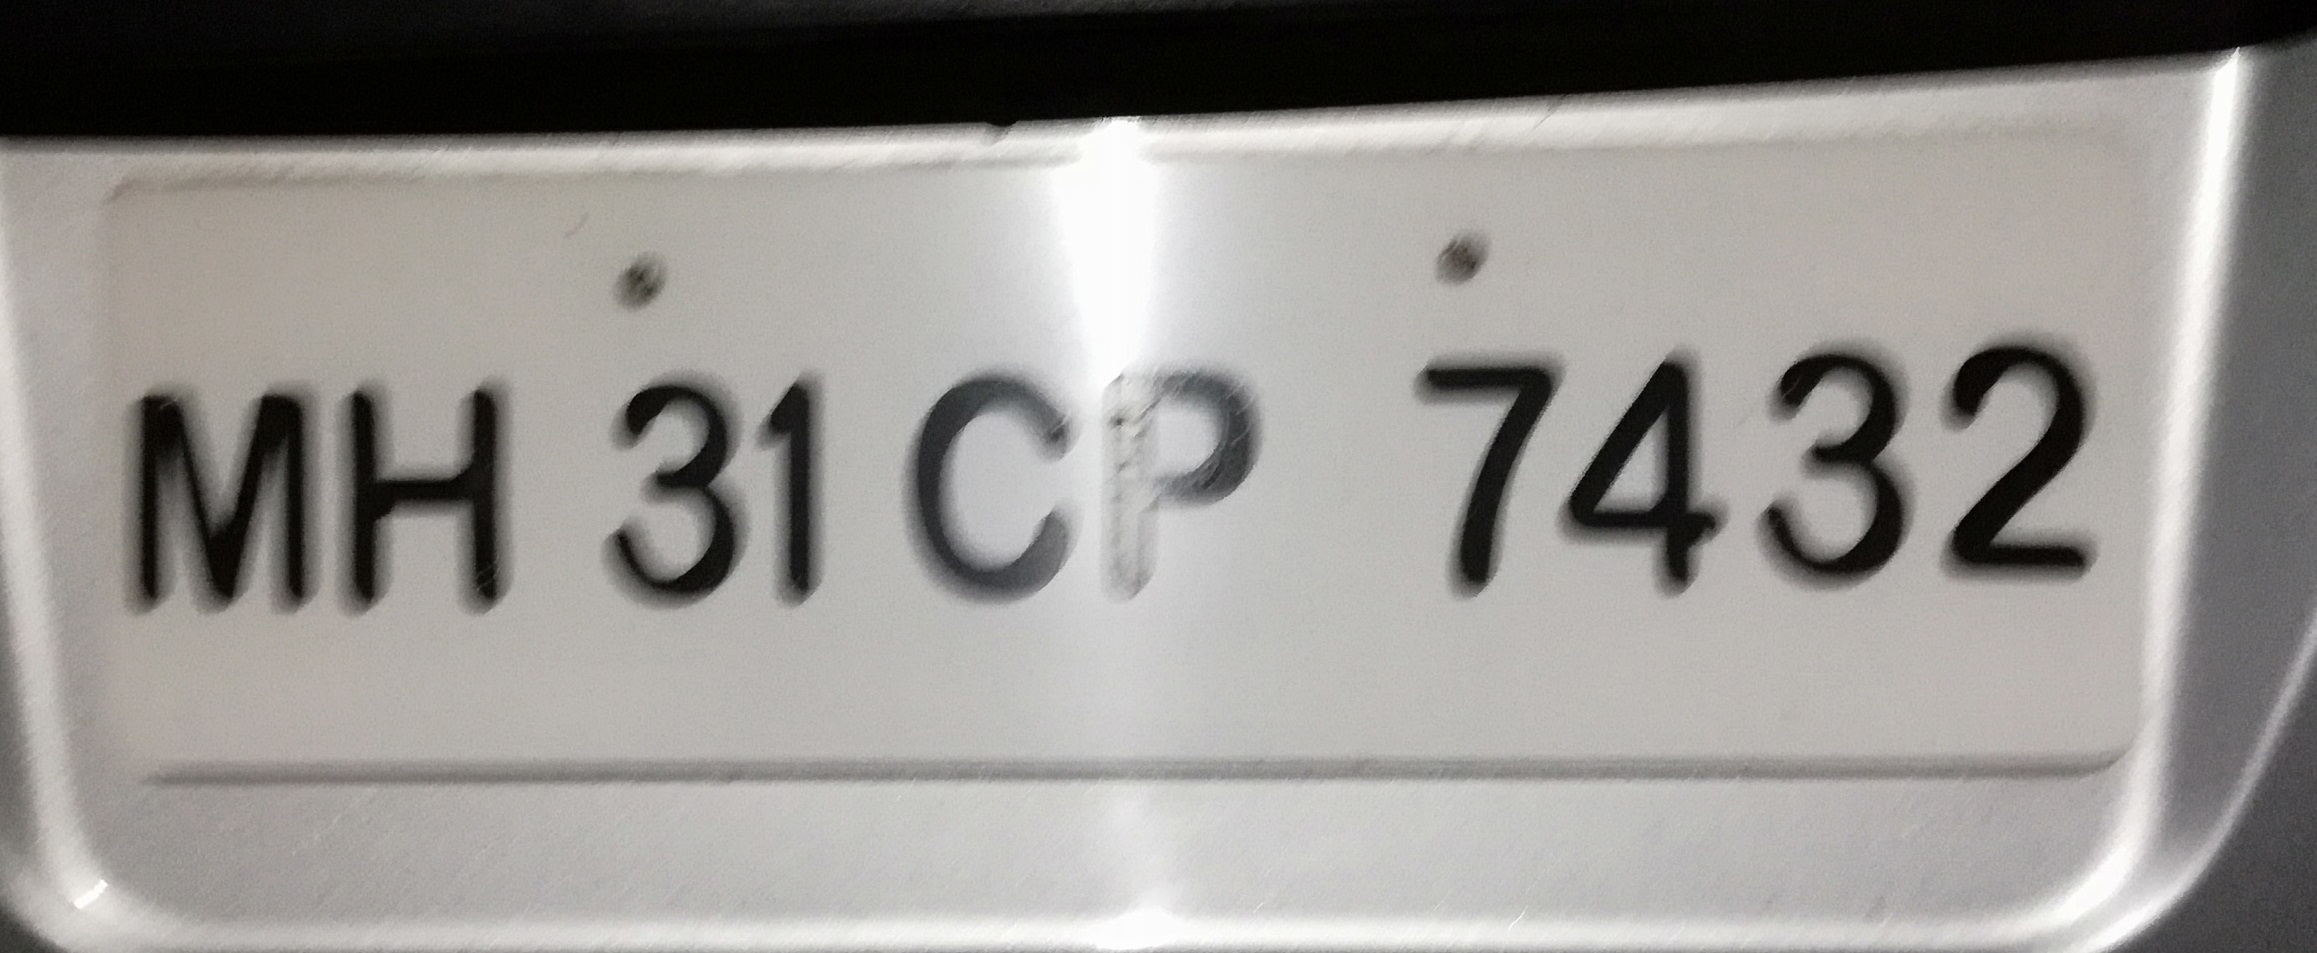numberplate: (118, 120, 2138, 776)
